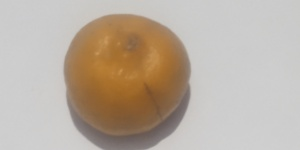BAD: (66, 16, 193, 137)
